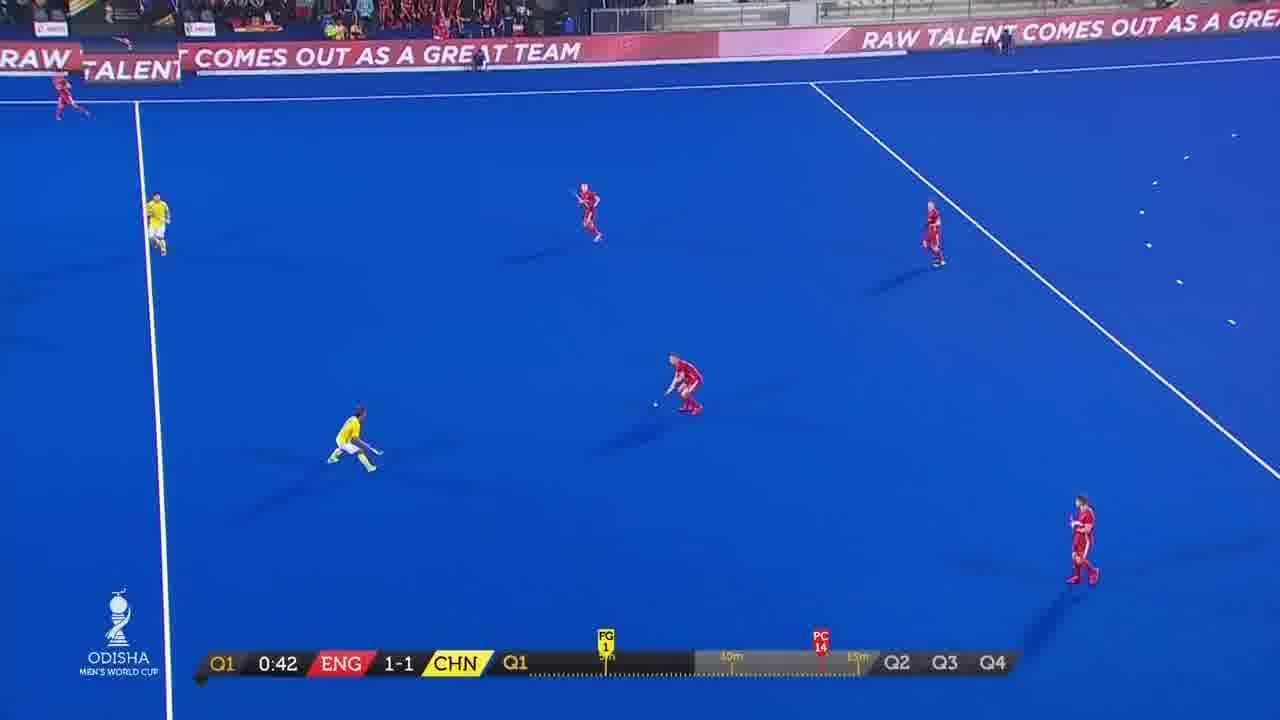ball: (642, 395, 668, 413)
